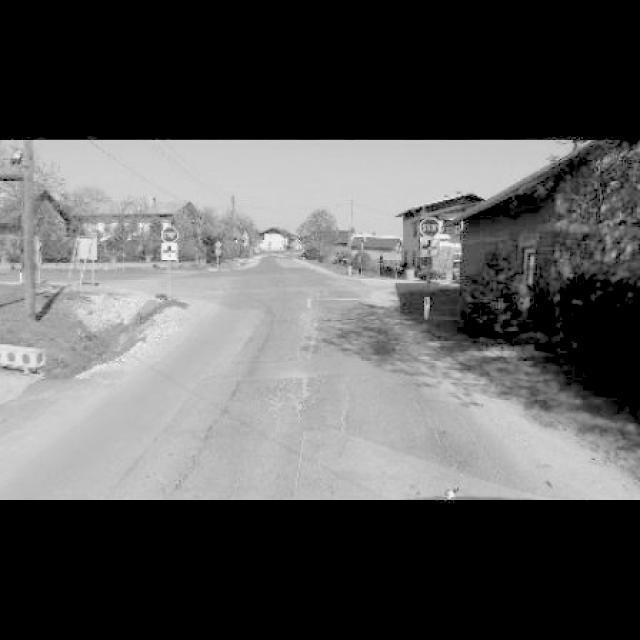Stop-Sign: (418, 218, 442, 236), (162, 228, 176, 242)
